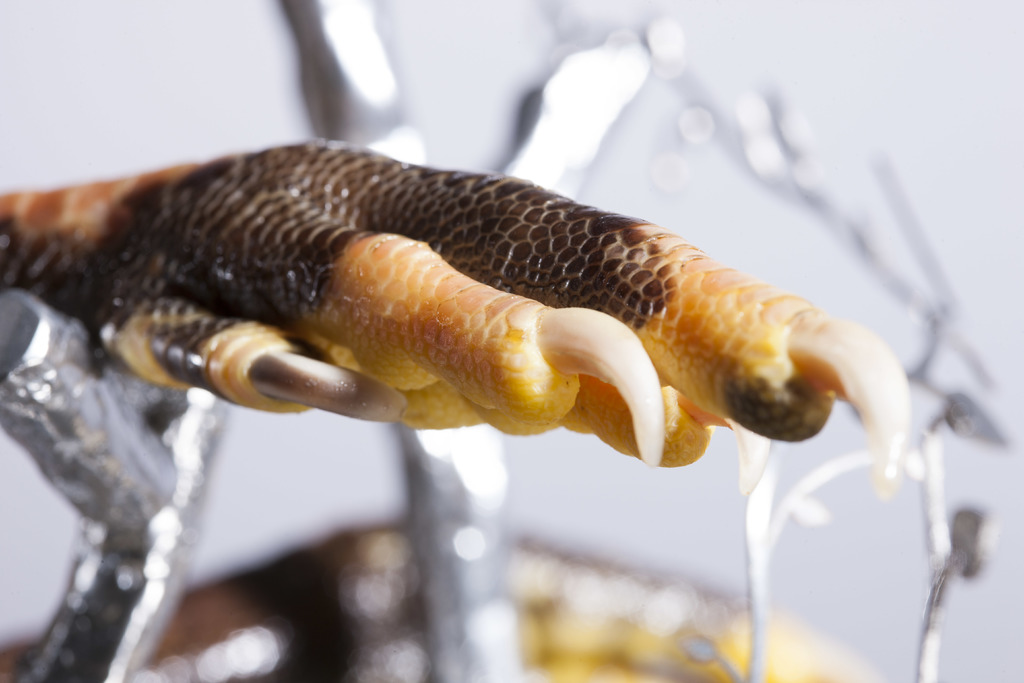Animal: (0, 132, 912, 497)
